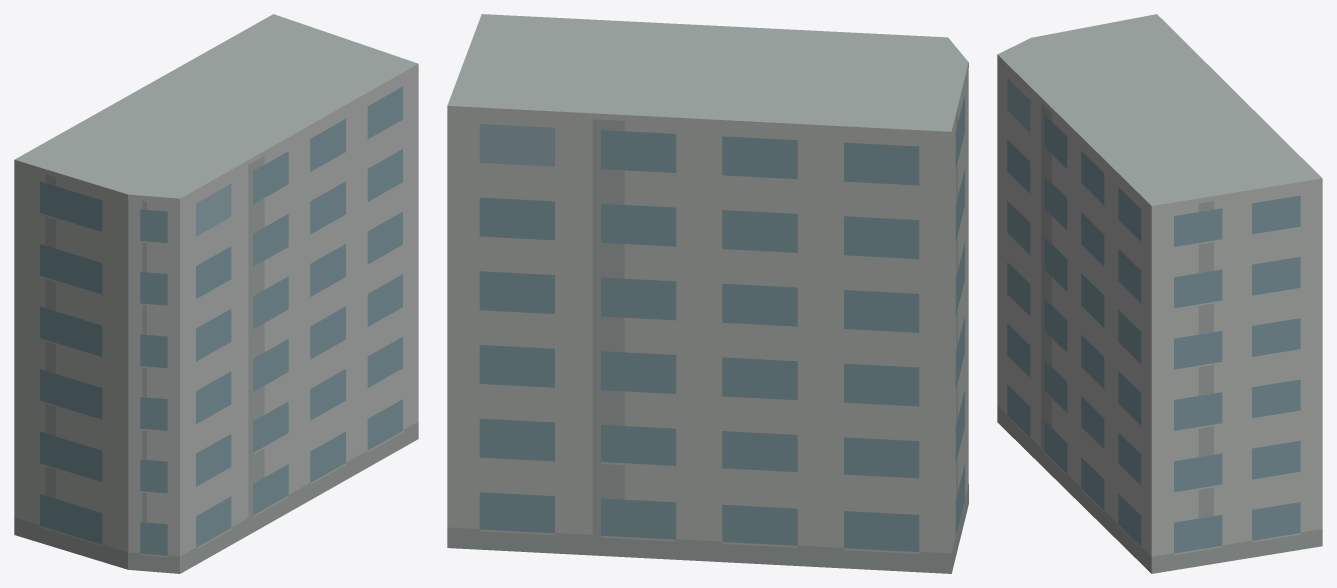
File: survey-upis-32772146.glb
3 views of the same model, side by side, from view 1: azimuth 30°, elevation 25°; view 2: azimuth 150°, elevation 25°; view 3: azimuth 270°, elevation 25° (orthographic). The views are drawn at different scales.
Parts seen in each view (by area): view 1: survey-upis-32772146.tmp; view 2: survey-upis-32772146.tmp; view 3: survey-upis-32772146.tmp.
Part boxes in pixels (left/top/right/bottom): survey-upis-32772146.tmp: left=14, top=14, right=418, bottom=573; survey-upis-32772146.tmp: left=447, top=14, right=968, bottom=573; survey-upis-32772146.tmp: left=997, top=14, right=1322, bottom=573.
Size of the model in its own units: 20.5 by 18.3 by 14.67.
